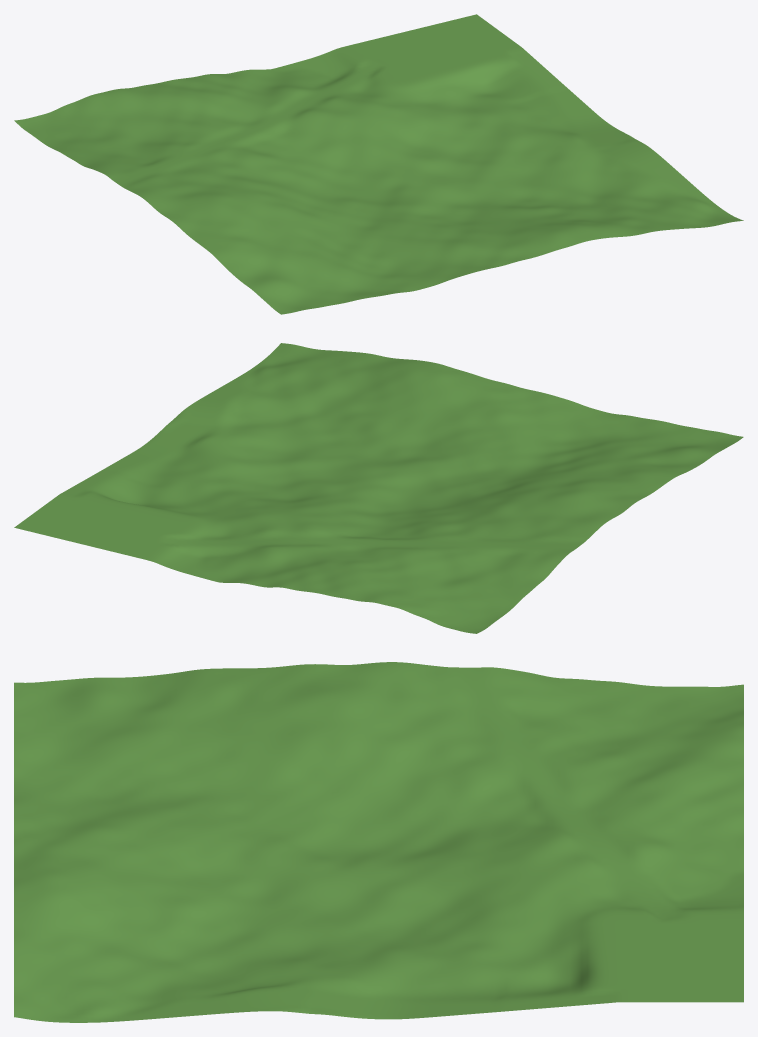
The model's file is SM_Terrain_03_04.fbx.
3 views of the same model, one above another, from view 1: azimuth 30°, elevation 25°; view 2: azimuth 150°, elevation 25°; view 3: azimuth 270°, elevation 25° (orthographic). The views are drawn at different scales.
Parts seen in each view (by area): view 1: SM_Terrain_03_04; view 2: SM_Terrain_03_04; view 3: SM_Terrain_03_04.
Part boxes in pixels (x1=…): SM_Terrain_03_04: x1=14, y1=14, x2=743, y2=314; SM_Terrain_03_04: x1=14, y1=343, x2=743, y2=633; SM_Terrain_03_04: x1=14, y1=662, x2=743, y2=1022.
Size of the model in its own units: 384 by 31.21 by 384.
